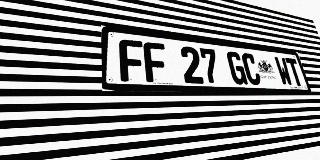2: (180, 46, 204, 84)
7: (198, 48, 222, 84)
C: (241, 53, 262, 85)
F: (119, 39, 146, 82), (143, 41, 169, 83)
G: (226, 51, 248, 85)
T: (285, 58, 304, 86)
W: (274, 56, 294, 86)
